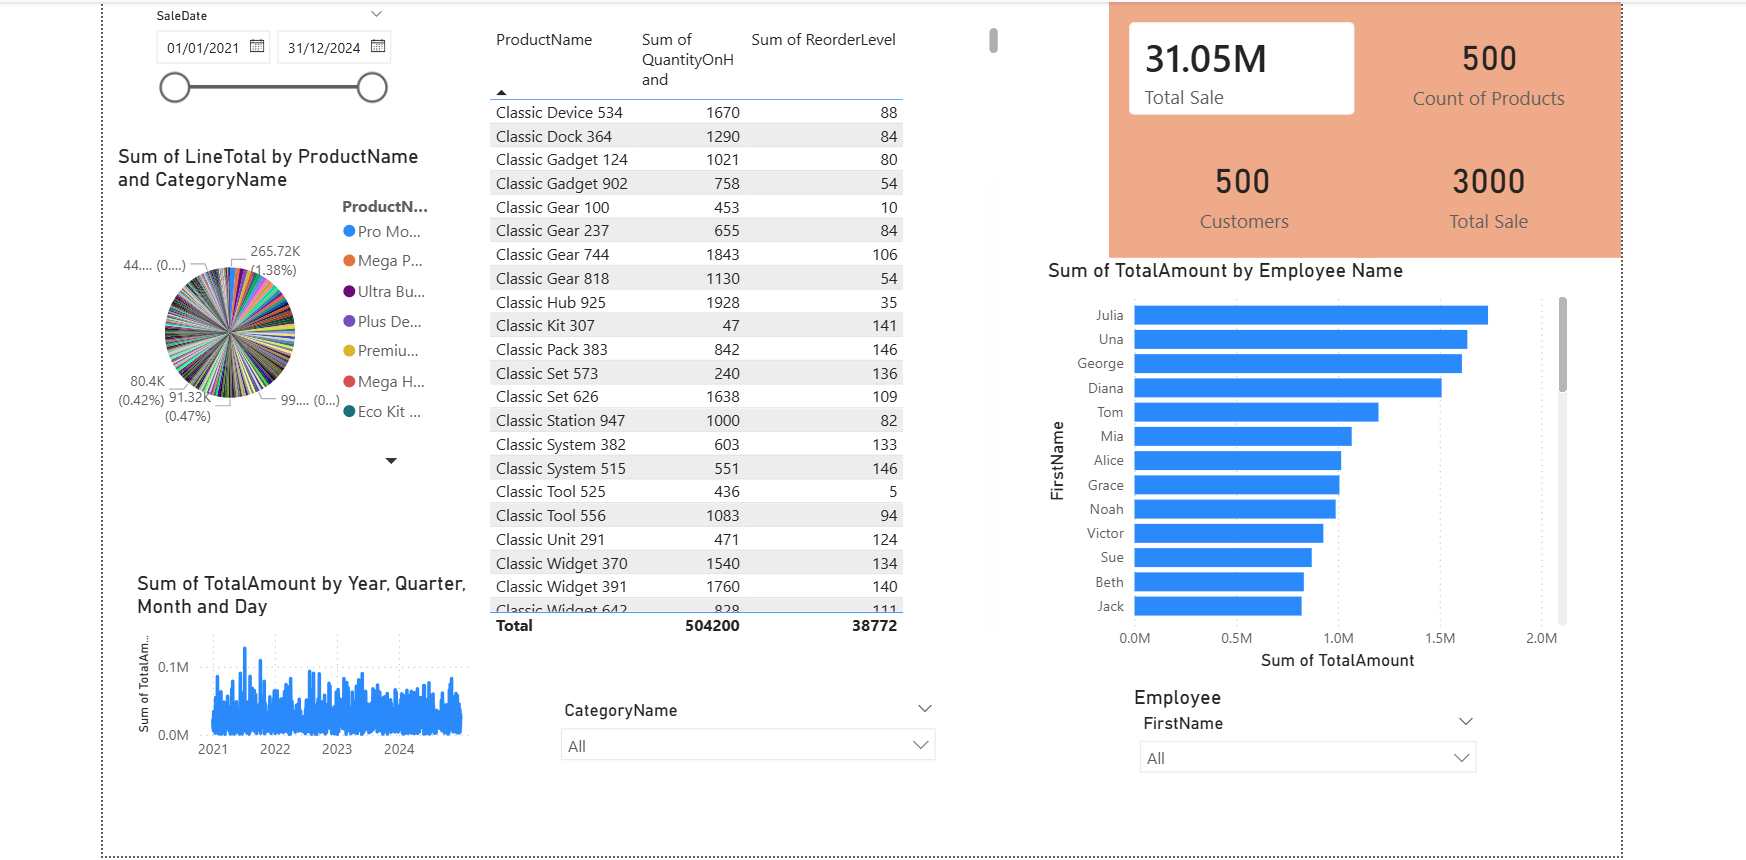

The dashboard page shown, as its layout file describes it:
{"tool":"powerbi","page":{"name":"Page 1","canvas":[1280,720],"ordinal":0},"visuals":[{"type":"pieChart","fields":{"Category":["Product.ProductName"],"Y":["Sum(SaleItem.LineTotal)"],"Series":["Category.CategoryName"]},"box":[8,120,280,280],"z":0},{"type":"tableEx","fields":{"Values":["Product.ProductName","Sum(Inventory.QuantityOnHand)","Sum(Inventory.ReorderLevel)"]},"box":[320,16,440,523],"z":1000},{"type":"barChart","title":"Sum of TotalAmount by Employee Name","fields":{"Category":["Employee.FirstName"],"Y":["Sum(Sale.TotalAmount)"]},"box":[792,216,448,352],"z":2000},{"type":"cardVisual","fields":{"Data":["Sum(Sale.TotalAmount)"]},"box":[848,0,224,112],"z":3000},{"type":"card","fields":{"Values":["CountNonNull(Customer.CustomerID)"]},"box":[848,104,224,112],"z":4000},{"type":"card","fields":{"Values":["CountNonNull(Product.ProductID)"]},"box":[1056,0,224,112],"z":5000},{"type":"card","fields":{"Values":["CountNonNull(Sale.SaleID)"]},"box":[1056,104,224,112],"z":6000},{"type":"slicer","fields":{"Values":["Sale.SaleDate"]},"box":[32,0,216,104],"z":7000},{"type":"slicer","fields":{"Values":["Category.CategoryName"]},"box":[376,584,336,80],"z":8000},{"type":"slicer","title":"Employee","fields":{"Values":["Employee.FirstName"]},"box":[864,576,304,144],"z":9000},{"type":"lineChart","fields":{"Category":["Sale.SaleDate.Variation.Date Hierarchy.Year","Sale.SaleDate.Variation.Date Hierarchy.Quarter","Sale.SaleDate.Variation.Date Hierarchy.Month","Sale.SaleDate.Variation.Date Hierarchy.Day"],"Y":["Sum(Sale.TotalAmount)"]},"box":[24,480,296,168],"z":10000}]}

Visuals, with their boxes on the page's 1280x720 design canvas (x1, y1, x2, y2). These are canvas units, not pixel positions in the 1746x860 screenshot, which may show the page scaled, cropped or inside an application window:
pieChart - Product.ProductName x Sum(SaleItem.LineTotal): bbox(8, 120, 288, 400)
tableEx - Product.ProductName x Sum(Inventory.QuantityOnHand): bbox(320, 16, 760, 539)
"Sum of TotalAmount by Employee Name" barChart: bbox(792, 216, 1240, 568)
cardVisual - Sum(Sale.TotalAmount): bbox(848, 0, 1072, 112)
card - CountNonNull(Customer.CustomerID): bbox(848, 104, 1072, 216)
card - CountNonNull(Product.ProductID): bbox(1056, 0, 1280, 112)
card - CountNonNull(Sale.SaleID): bbox(1056, 104, 1280, 216)
slicer - Sale.SaleDate: bbox(32, 0, 248, 104)
slicer - Category.CategoryName: bbox(376, 584, 712, 664)
"Employee" slicer: bbox(864, 576, 1168, 720)
lineChart - Sale.SaleDate.Variation.Date Hierarchy.Year x Sale.SaleDate.Variation.Date Hierarchy.Quarter: bbox(24, 480, 320, 648)
